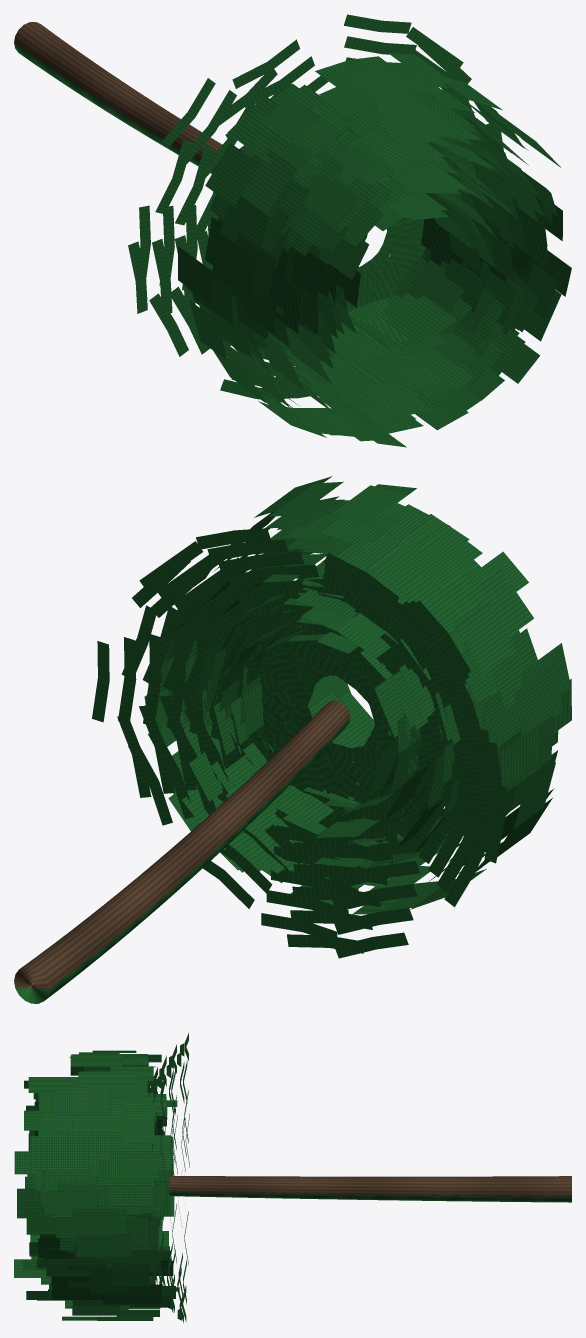
File: veg_tropical_palm_01.obj
The picture shows the model from 3 angles, top to bottom: view 1: azimuth 30°, elevation 25°; view 2: azimuth 150°, elevation 25°; view 3: azimuth 270°, elevation 25°; orthographic projection. The views are drawn at different scales.
Visible parts, largest first — view 1: veg_tropical_palm_01; view 2: veg_tropical_palm_01; view 3: veg_tropical_palm_01.
Part boxes in pixels (x1,y1,x2,y2): veg_tropical_palm_01: (14,14,571,447); veg_tropical_palm_01: (14,476,571,1003); veg_tropical_palm_01: (14,1033,571,1322).
Size of the model in its own units: 3.09 by 2.95 by 5.5.
Materials: 1 (1 with a texture image).
